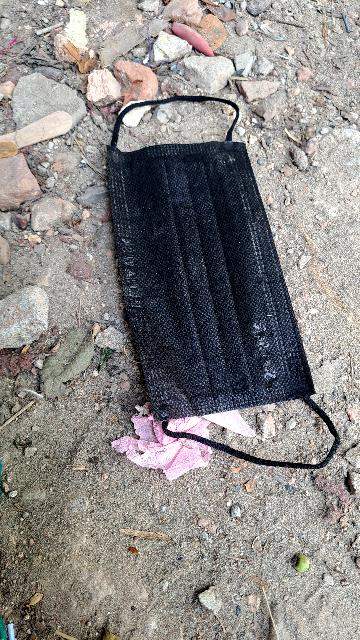mask: (91, 110, 324, 438)
